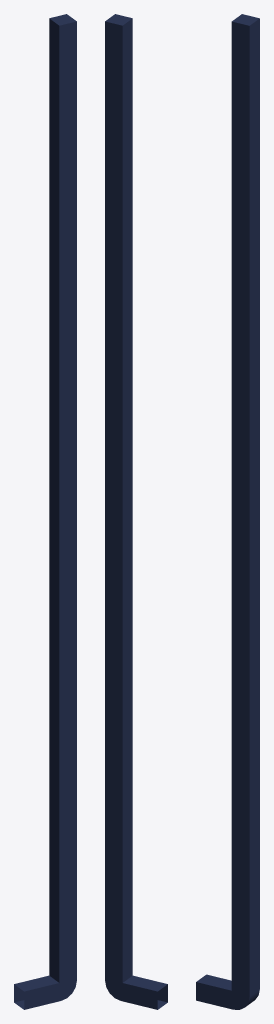
Rendered from grid_frame_1.fbx.
3 views of the same model, side by side, from view 1: azimuth 30°, elevation 25°; view 2: azimuth 150°, elevation 25°; view 3: azimuth 330°, elevation 25° (orthographic).
Parts seen in each view (by area): view 1: grid_frame_1; view 2: grid_frame_1; view 3: grid_frame_1.
Boxes of the visible parts, x1,y1,x2,y2 form: grid_frame_1: [14, 14, 76, 1009]; grid_frame_1: [105, 14, 167, 1009]; grid_frame_1: [196, 14, 259, 1009].
Size of the model in its own units: 150 by 2650 by 50.
Materials: 1 (1 with a texture image).
